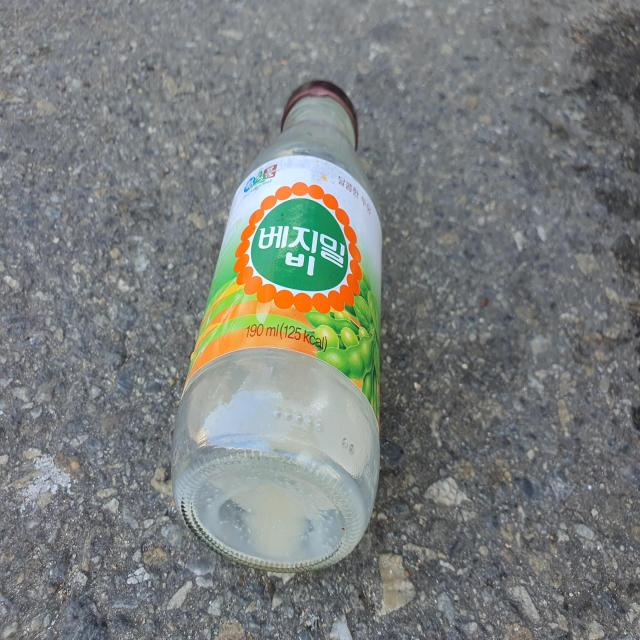glass: (171, 79, 382, 573)
